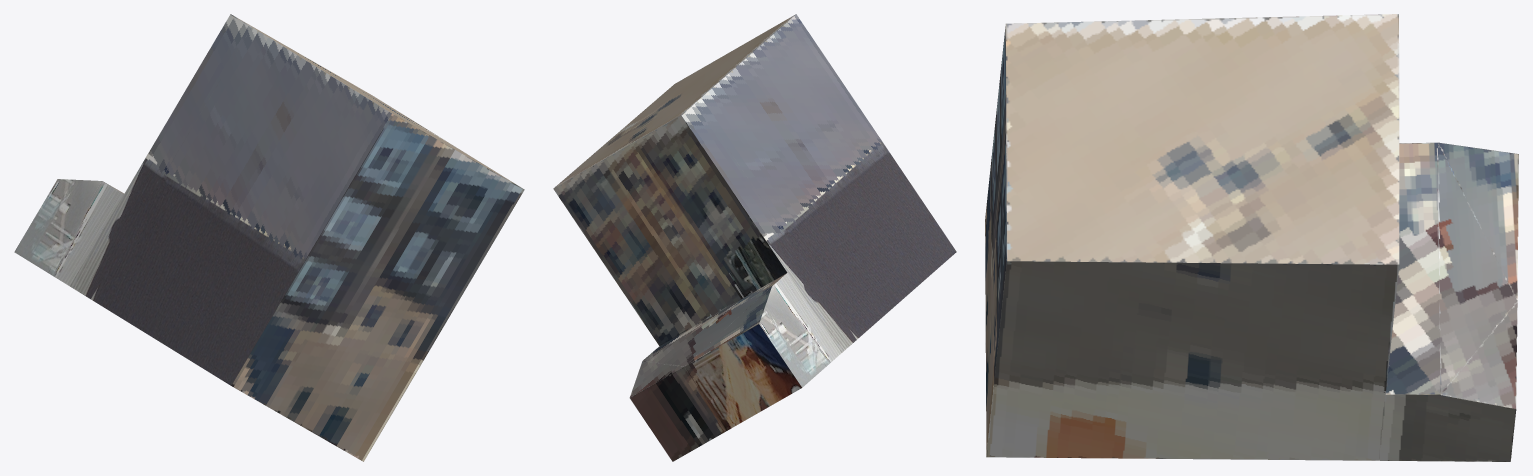
3 views of the same model, side by side, from view 1: azimuth 30°, elevation 25°; view 2: azimuth 150°, elevation 25°; view 3: azimuth 270°, elevation 25° (orthographic). The views are drawn at different scales.
Parts seen in each view (by area): view 1: BAG_0599100000767287 (×4); view 2: BAG_0599100000767287 (×4); view 3: BAG_0599100000767287 (×4).
Part boxes in pixels (x1,y1,x2,y2): BAG_0599100000767287 (×4): [14, 14, 524, 461]; BAG_0599100000767287 (×4): [553, 14, 956, 461]; BAG_0599100000767287 (×4): [985, 14, 1518, 461].
Size of the model in its own units: 17.04 by 17.26 by 17.73.
1 material, 1 textured.
